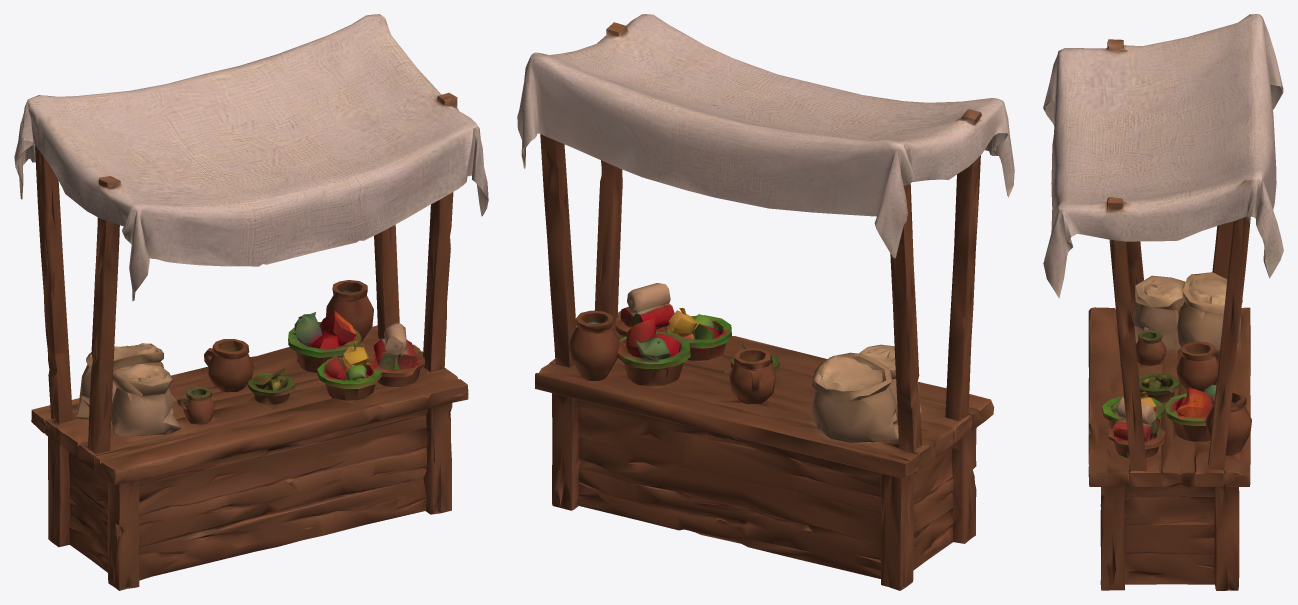
File: trade_stall_prilavok_idle.glb
3 renders of one model, left to right at view 1: azimuth 30°, elevation 25°; view 2: azimuth 150°, elevation 25°; view 3: azimuth 270°, elevation 25°, orthographic. The views are drawn at different scales.
Parts seen in each view (by area): view 1: tripo_node_00f16ae5-ead1-4bac-b88e-68afa7d5681e; view 2: tripo_node_00f16ae5-ead1-4bac-b88e-68afa7d5681e; view 3: tripo_node_00f16ae5-ead1-4bac-b88e-68afa7d5681e.
Part boxes in pixels (x1,y1,x2,y2): tripo_node_00f16ae5-ead1-4bac-b88e-68afa7d5681e: (14,14,488,590); tripo_node_00f16ae5-ead1-4bac-b88e-68afa7d5681e: (517,14,1014,590); tripo_node_00f16ae5-ead1-4bac-b88e-68afa7d5681e: (1043,14,1283,590).
Size of the model in its own units: 0.983 by 1.1 by 0.5743.
1 material, 1 textured.
